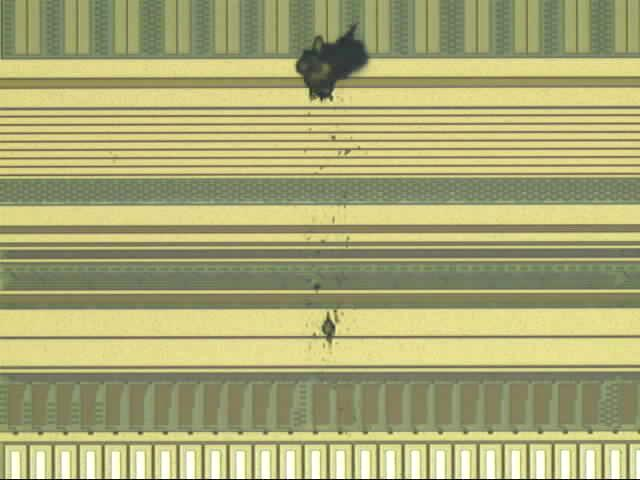PO CONTAMINATION: (291, 15, 381, 373)
